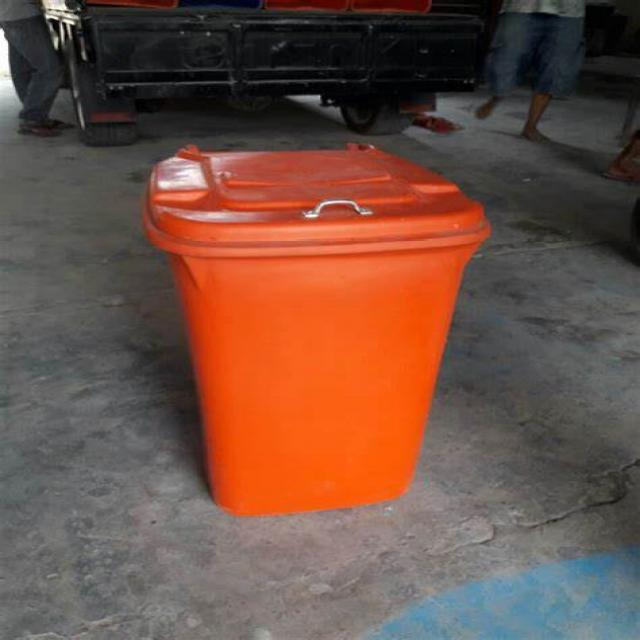garbage container: (125, 123, 521, 526)
